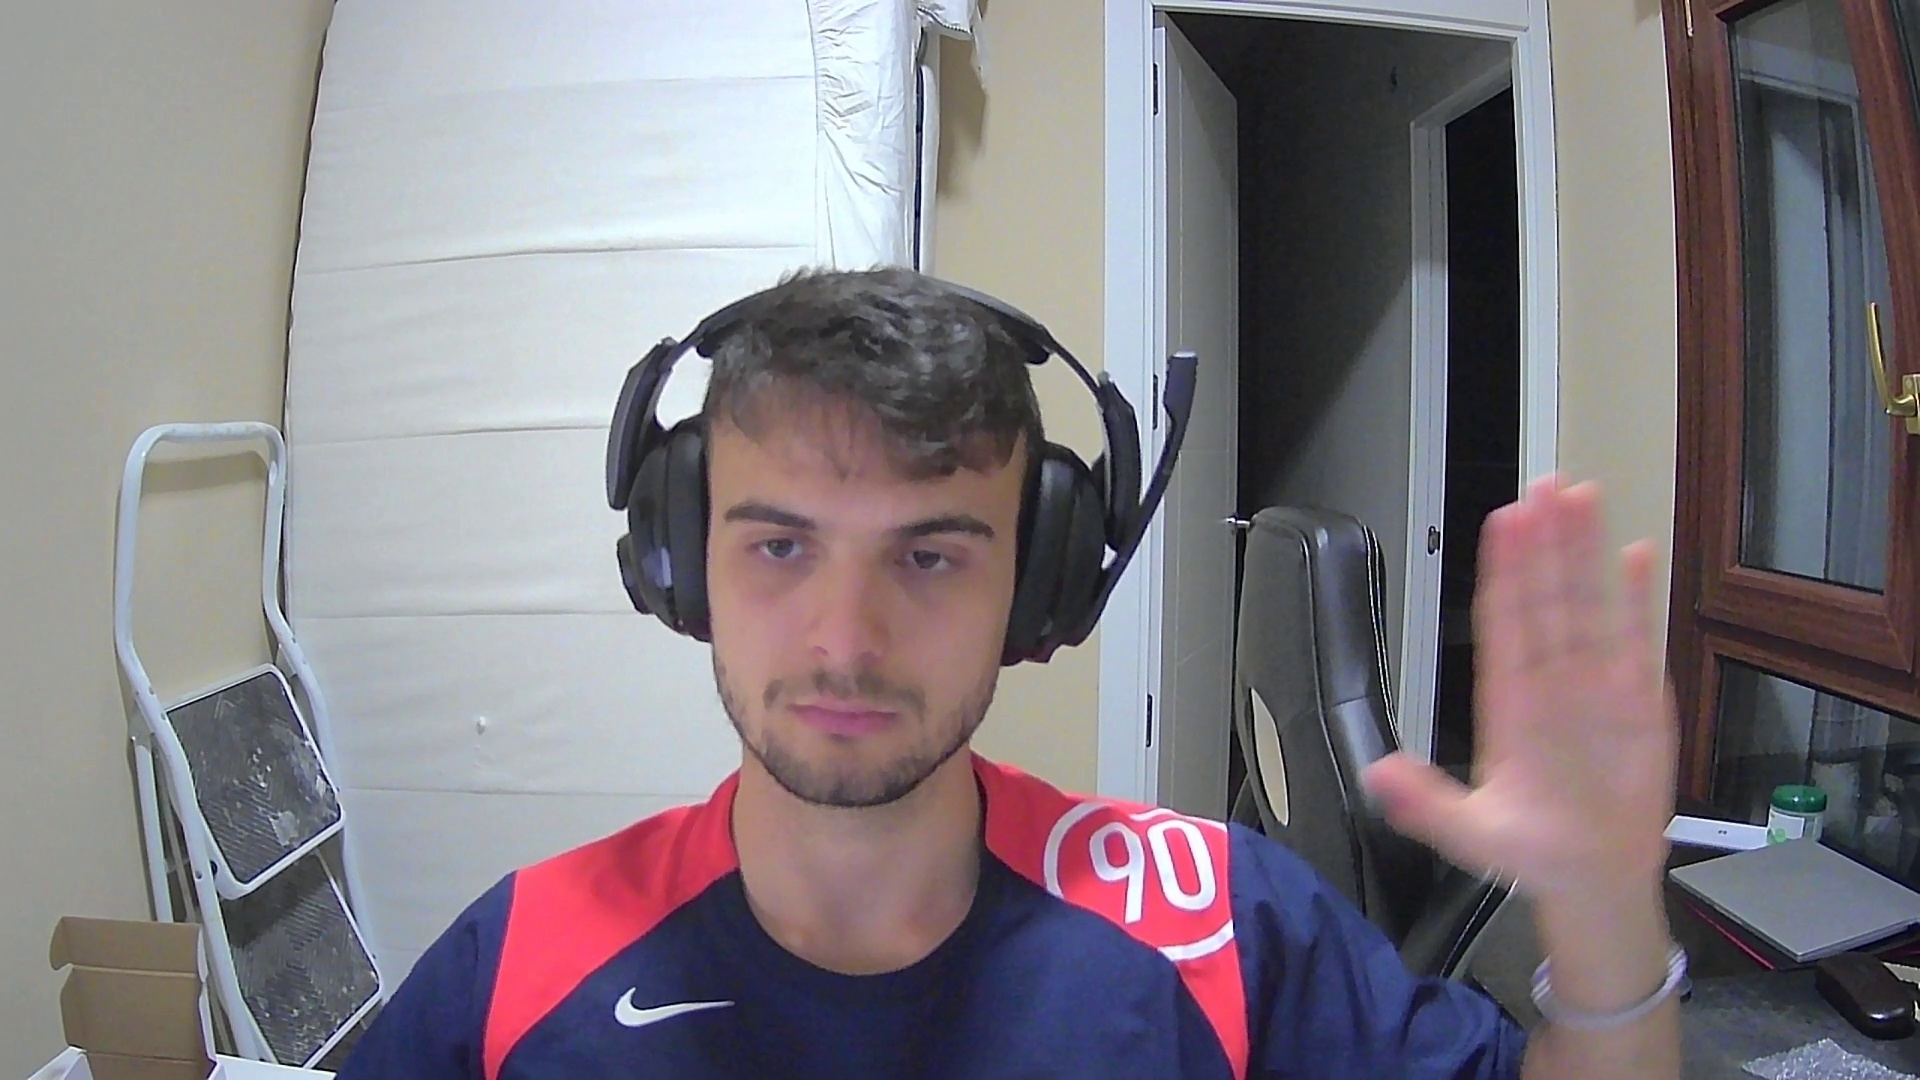Palm: (1366, 469, 1687, 914)
